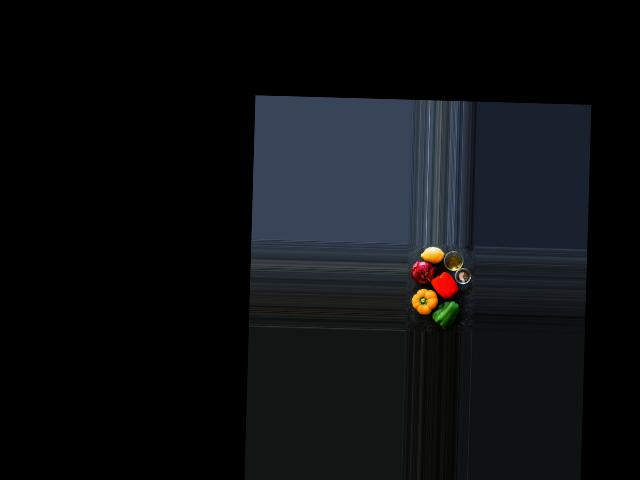bell_pepper: (429, 271, 459, 298)
